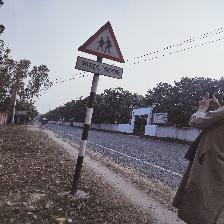College-in-front: (52, 6, 146, 123)
